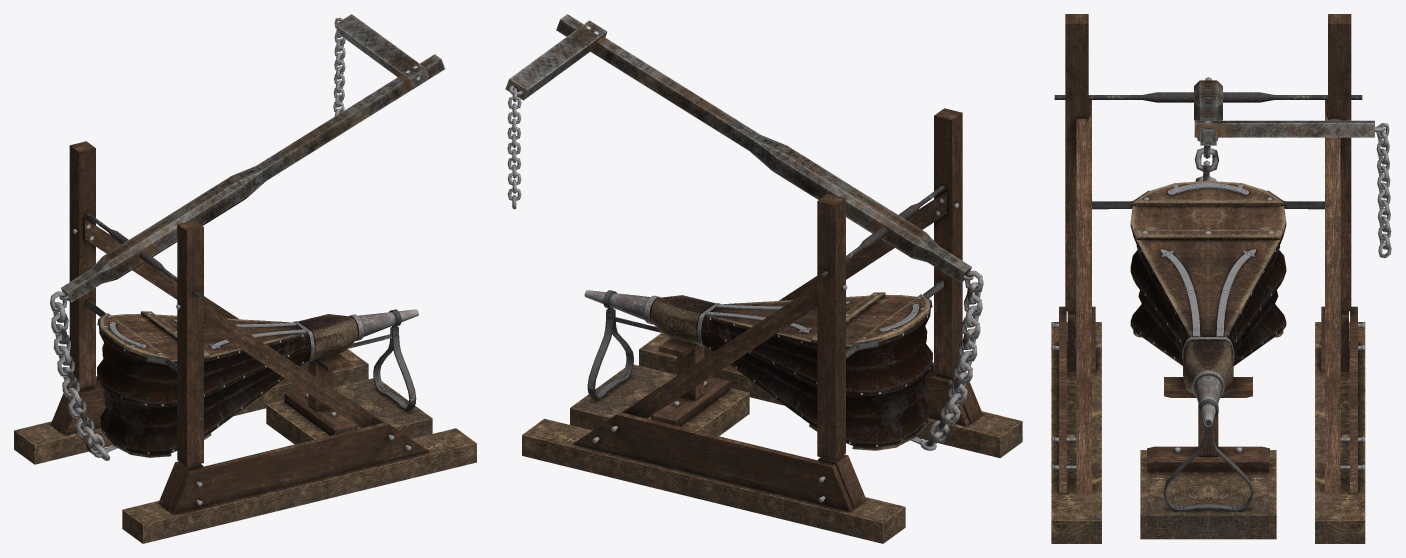
Rendered from bellows.glb.
The picture shows the model from 3 angles, left to right: view 1: azimuth 30°, elevation 25°; view 2: azimuth 150°, elevation 25°; view 3: azimuth 270°, elevation 25°; orthographic projection. The views are drawn at different scales.
Parts seen in each view (by area): view 1: defaultMaterial.015, defaultMaterial.013, defaultMaterial, defaultMaterial.012, defaultMaterial.010, defaultMaterial.002, defaultMaterial.005, defaultMaterial.006, defaultMaterial.003, defaultMaterial.011; view 2: defaultMaterial.015, defaultMaterial.013, defaultMaterial, defaultMaterial.012, defaultMaterial.010, defaultMaterial.002, defaultMaterial.005, defaultMaterial.006, defaultMaterial.003, defaultMaterial.011, defaultMaterial.007; view 3: defaultMaterial.013, defaultMaterial.015, defaultMaterial, defaultMaterial.002, defaultMaterial.010, defaultMaterial.011, defaultMaterial.012, defaultMaterial.003, defaultMaterial.008, defaultMaterial.007, defaultMaterial.001, defaultMaterial.004 (+1 smaller).
Boxes of the visible parts, x1,y1,x2,y2 form: defaultMaterial.015: (14,349,476,543); defaultMaterial.013: (94,309,418,457); defaultMaterial: (53,141,384,511); defaultMaterial.012: (61,54,444,302); defaultMaterial.010: (335,14,429,87); defaultMaterial.002: (284,353,357,435); defaultMaterial.005: (50,291,105,454); defaultMaterial.006: (53,302,110,460); defaultMaterial.003: (373,327,416,409); defaultMaterial.011: (86,212,201,298); defaultMaterial.015: (522,333,1022,543); defaultMaterial.013: (584,290,936,450); defaultMaterial: (621,108,980,509); defaultMaterial.012: (556,14,971,282); defaultMaterial.010: (505,20,607,100); defaultMaterial.002: (651,338,730,426); defaultMaterial.005: (929,270,983,443); defaultMaterial.006: (925,282,980,446); defaultMaterial.003: (587,309,633,398); defaultMaterial.011: (819,185,944,278); defaultMaterial.007: (507,96,521,200); defaultMaterial.013: (1130,181,1286,426); defaultMaterial.015: (1051,306,1365,543); defaultMaterial: (1065,14,1351,493); defaultMaterial.002: (1147,377,1269,472); defaultMaterial.010: (1194,120,1374,137); defaultMaterial.011: (1054,92,1362,102); defaultMaterial.012: (1194,80,1222,145); defaultMaterial.003: (1163,426,1253,511); defaultMaterial.008: (1376,123,1391,257); defaultMaterial.007: (1378,131,1389,249); defaultMaterial.001: (1092,190,1324,209); defaultMaterial.004: (1051,322,1365,470).
Bounding box in the file's own units: 2 × 1.72 × 1.23.
1 material, 1 textured.
